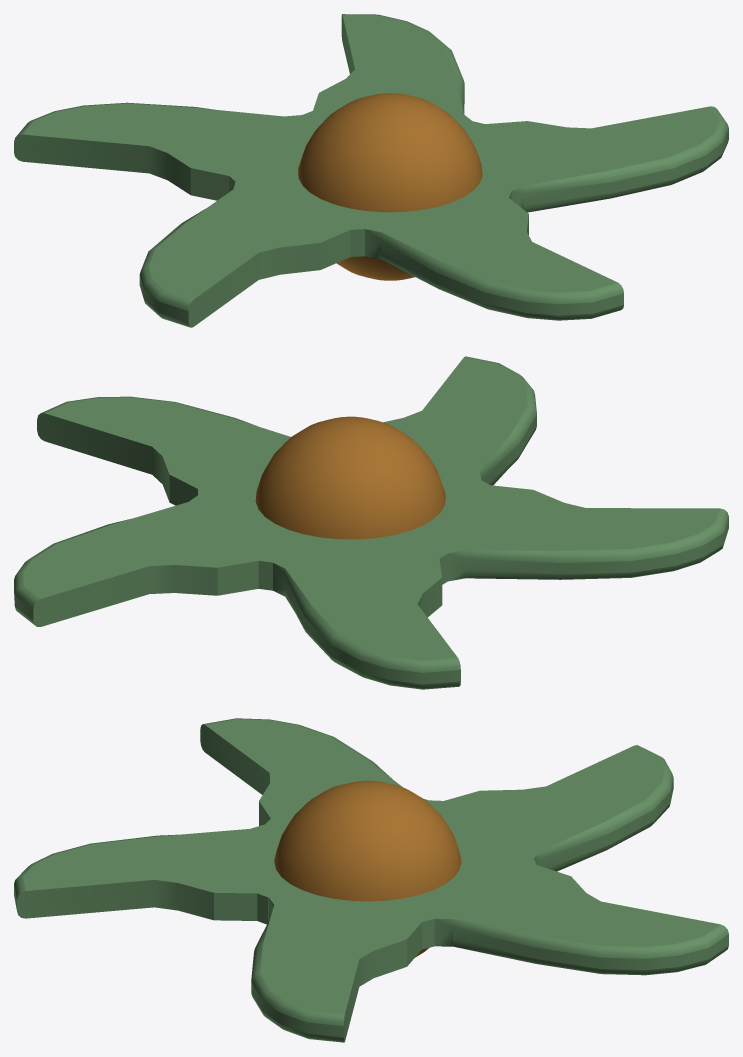
Rendered from Earth_Blade5.fbx.
3 views of the same model, one above another, from view 1: azimuth 30°, elevation 25°; view 2: azimuth 150°, elevation 25°; view 3: azimuth 270°, elevation 25° (orthographic). The views are drawn at different scales.
Parts seen in each view (by area): view 1: Vert.016, Sphere.014; view 2: Vert.016, Sphere.014; view 3: Vert.016, Sphere.014.
Boxes of the visible parts, <box> form: Vert.016: <box>14,14,728,327</box>; Sphere.014: <box>298,93,482,280</box>; Vert.016: <box>14,356,728,689</box>; Sphere.014: <box>255,416,445,539</box>; Vert.016: <box>14,718,728,1042</box>; Sphere.014: <box>274,780,461,957</box>.
Bounding box in the file's own units: 94.19 × 25 × 94.
